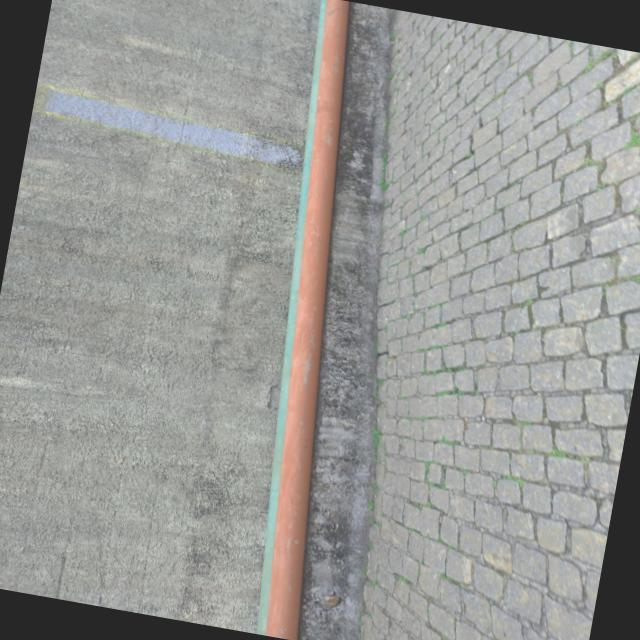gas: (266, 0, 349, 640)
